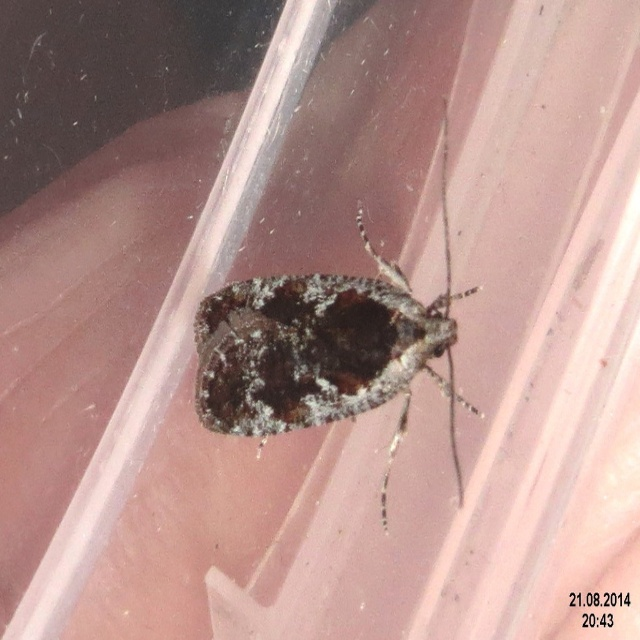Moths and butterflies: (191, 93, 485, 542)
